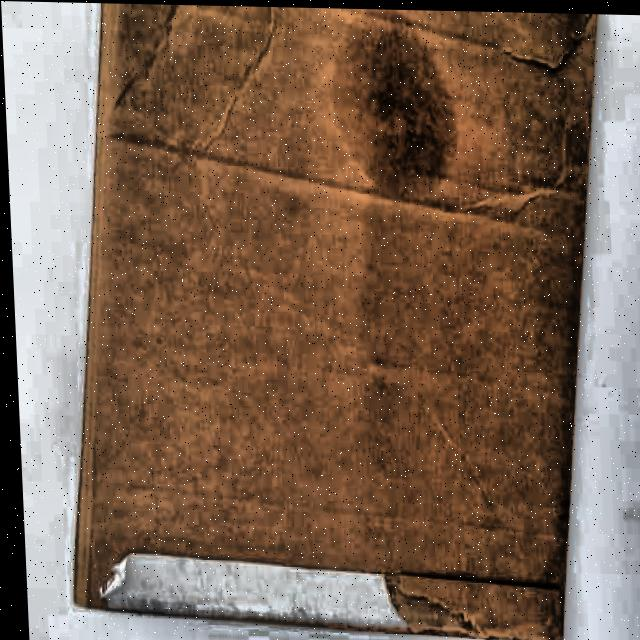cardboard: (45, 3, 626, 640)
